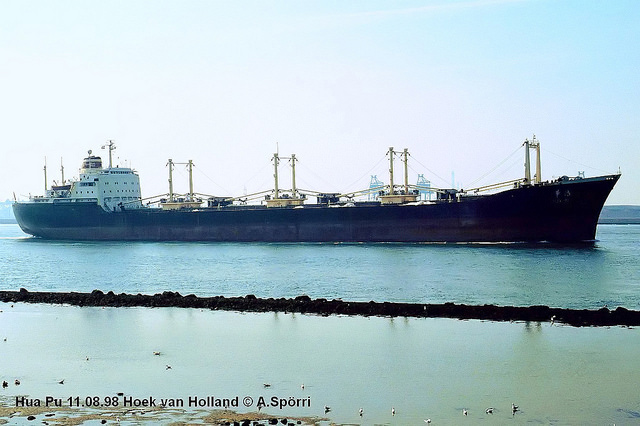bulk carrier: (10, 141, 618, 253)
